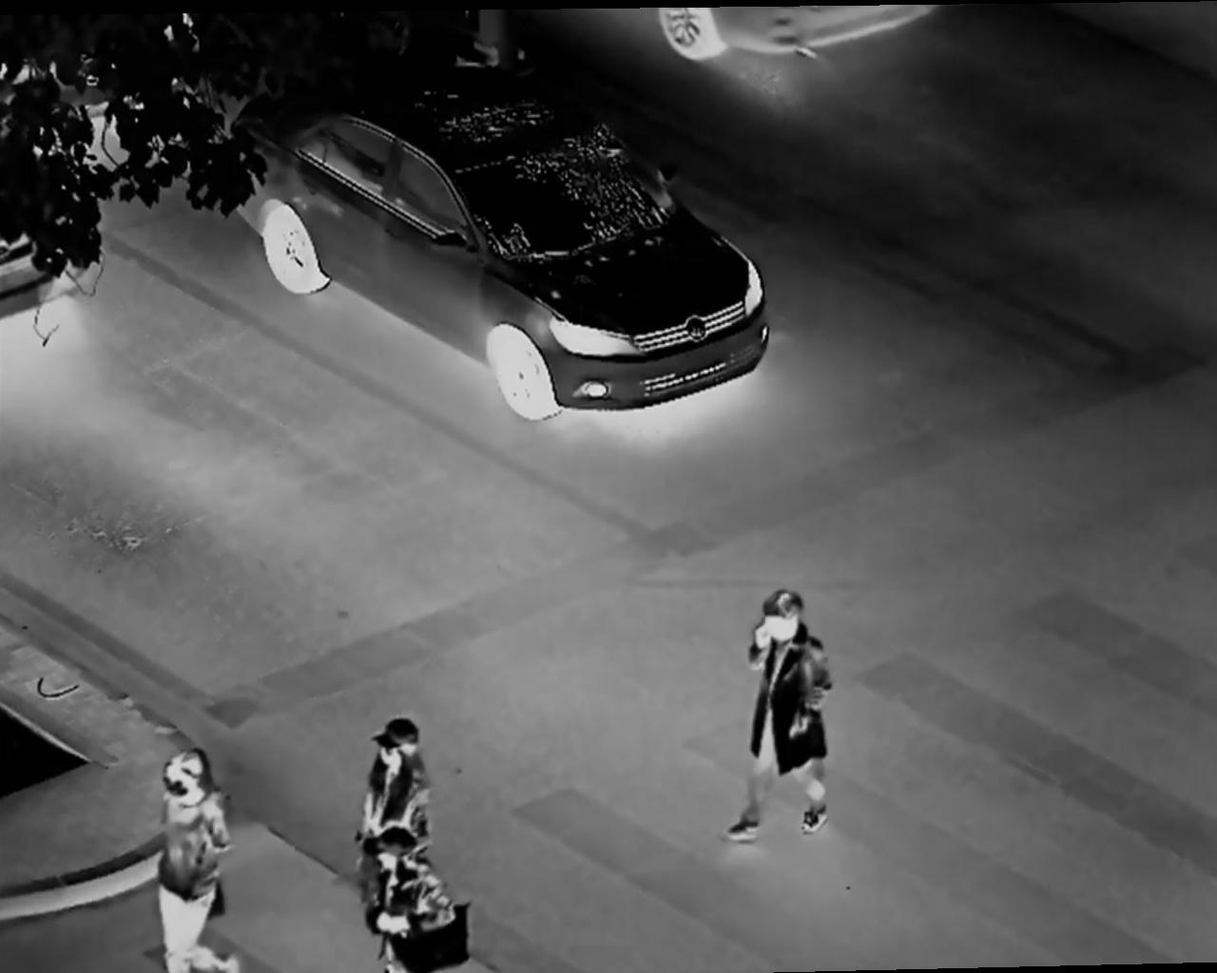person: (726, 580, 834, 849), (147, 744, 241, 973), (358, 713, 445, 900), (371, 825, 480, 973)
